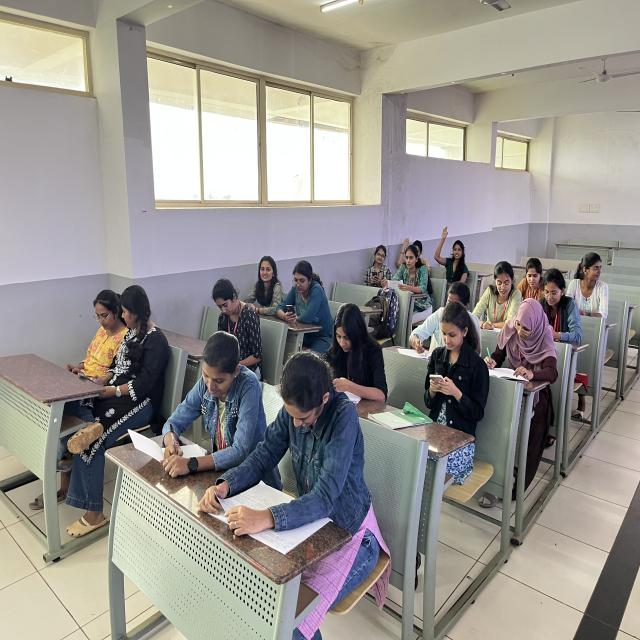Hand Rising: (432, 210, 472, 295), (400, 226, 434, 276)
Reading: (226, 322, 376, 562), (384, 245, 430, 306)
Using Phone: (72, 272, 170, 416), (428, 294, 490, 466), (276, 256, 331, 338)
Writing: (146, 329, 273, 468), (483, 292, 551, 400), (404, 273, 468, 359), (474, 242, 515, 334)
